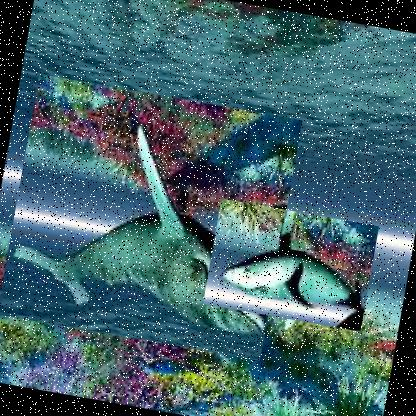blue_whale: (0, 73, 303, 362), (202, 198, 379, 332)
